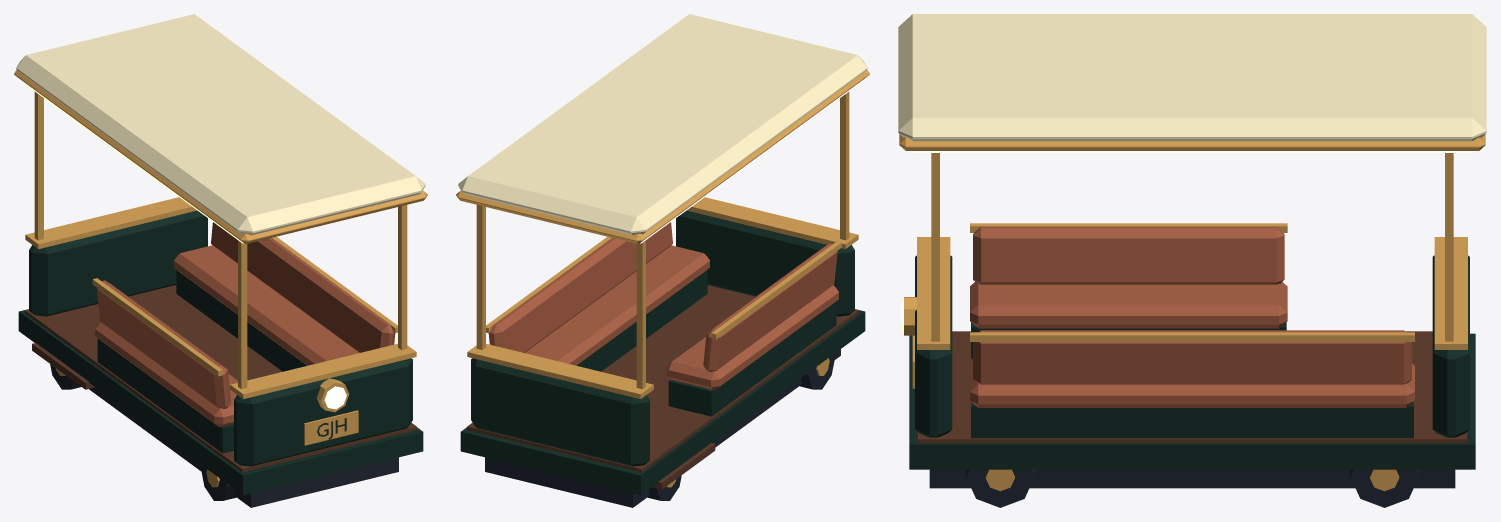
3 views of the same model, side by side, from view 1: azimuth 30°, elevation 25°; view 2: azimuth 150°, elevation 25°; view 3: azimuth 270°, elevation 25° (orthographic). The views are drawn at different scales.
Parts seen in each view (by area): view 1: SightseeingCarriage; view 2: SightseeingCarriage; view 3: SightseeingCarriage.
Part boxes in pixels (x1,y1,x2,y2): SightseeingCarriage: [14, 14, 427, 507]; SightseeingCarriage: [456, 14, 869, 507]; SightseeingCarriage: [898, 14, 1486, 507].
Bounding box in the file's own units: 1.4 × 2.2 × 3.
1 material, 1 textured.
